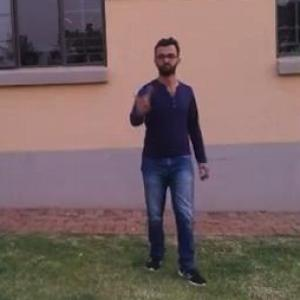takeoff-hand: (125, 82, 155, 118)
